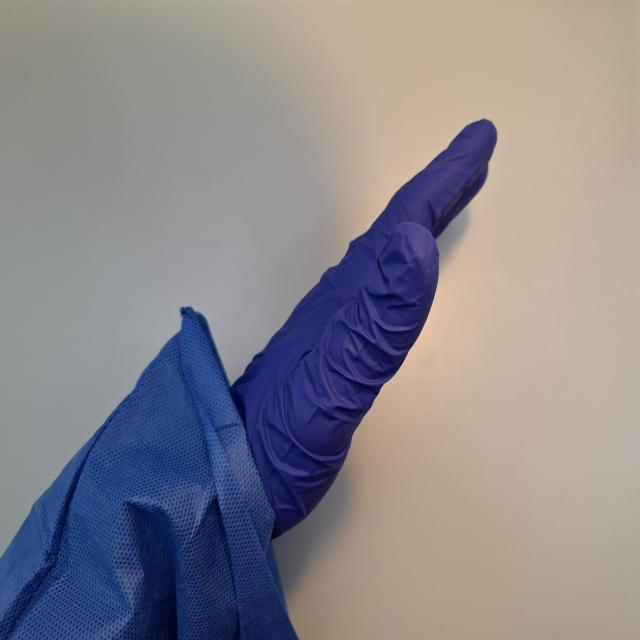glove_on: (169, 115, 501, 552)
